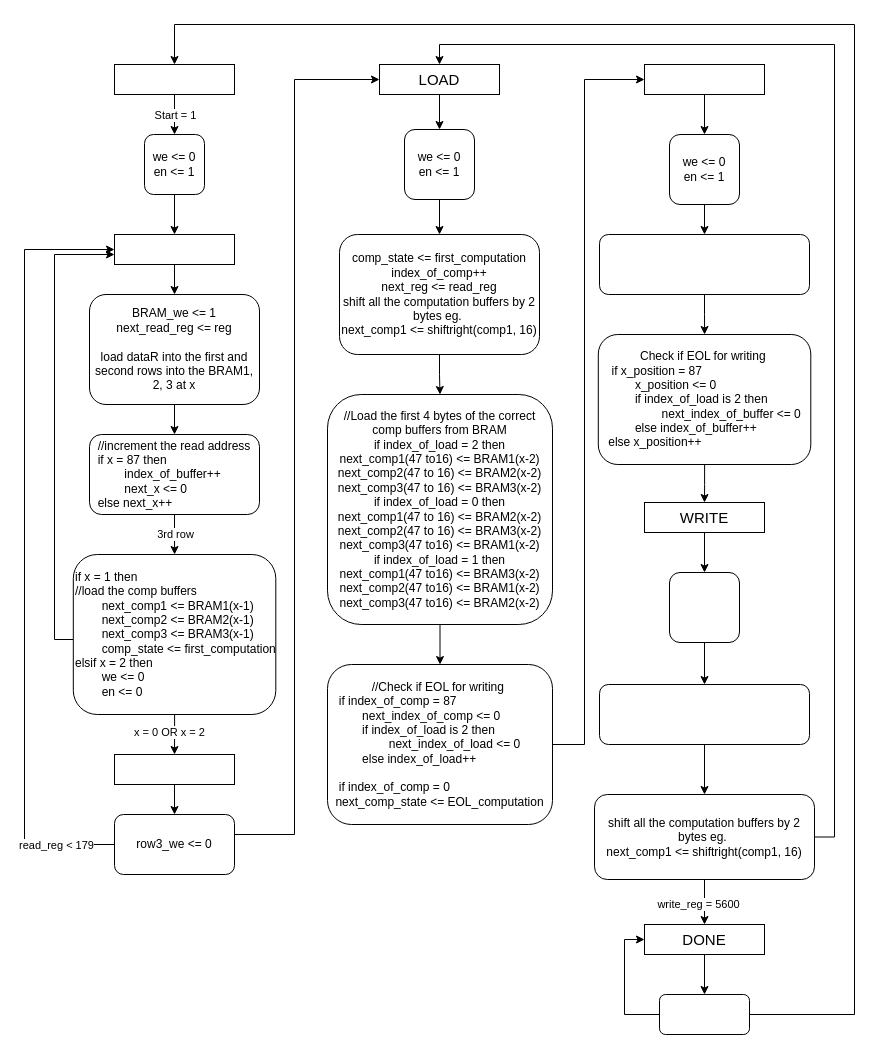
This 880x1052 diagram has some shape labels left out. Each missing label, with the box of its shape:
BRAM_Read: (114, 754, 234, 784)
finish <= 1: (658, 994, 750, 1034)
IDLE: (114, 64, 234, 94)
Initialise: (114, 234, 234, 264)
next_read_reg++ next_reg <= write_reg next_comp_state <= no_computation: (598, 234, 810, 294)
next_write_reg++ next_reg <= read_reg next_comp_state <= first_computation: (598, 684, 810, 744)
READ: (644, 64, 764, 94)
we <= 1 en <= 1: (668, 572, 740, 642)
